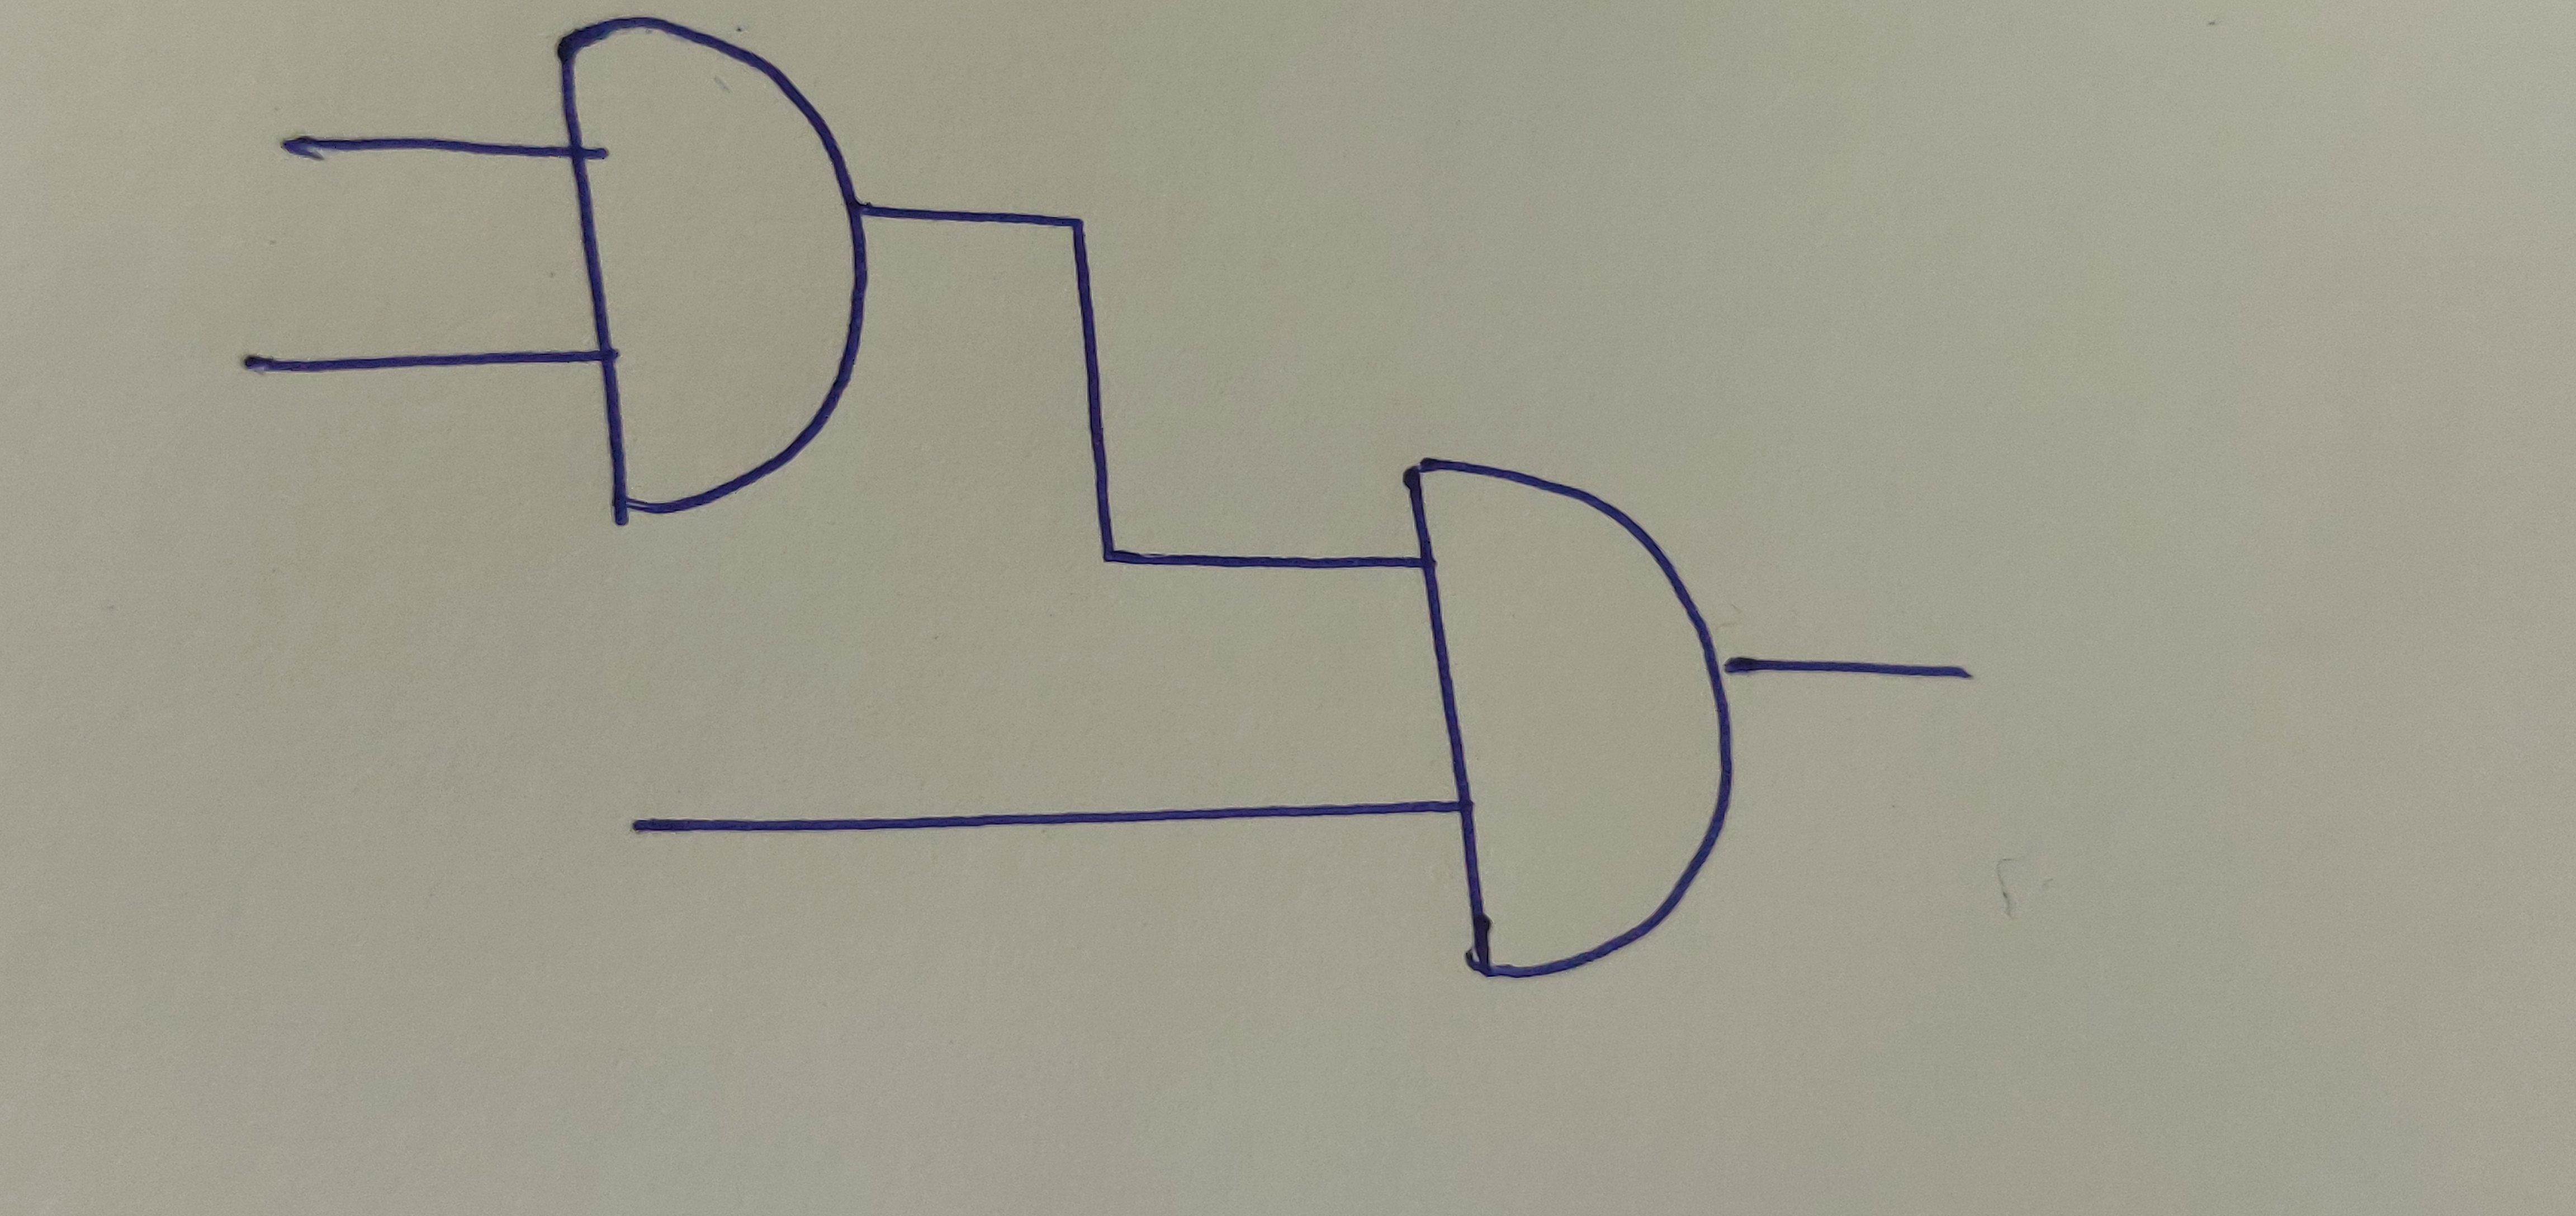and: (1398, 454, 1737, 983), (544, 16, 866, 519)
